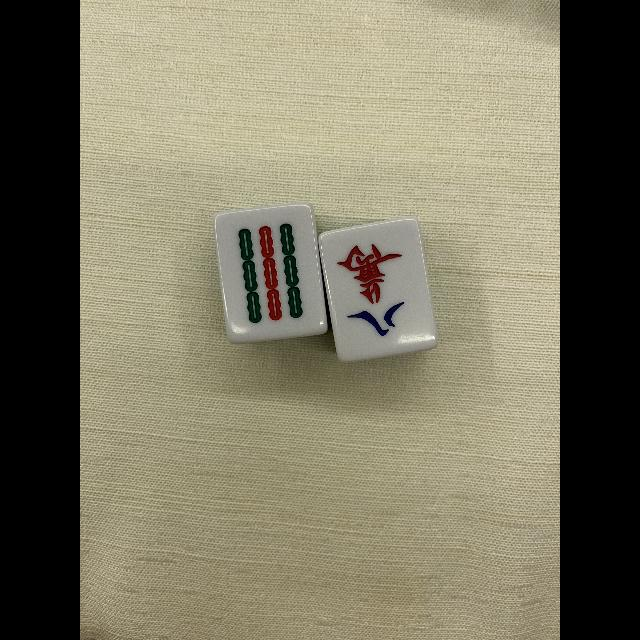b9: (222, 210, 322, 334)
c8: (329, 225, 427, 355)
